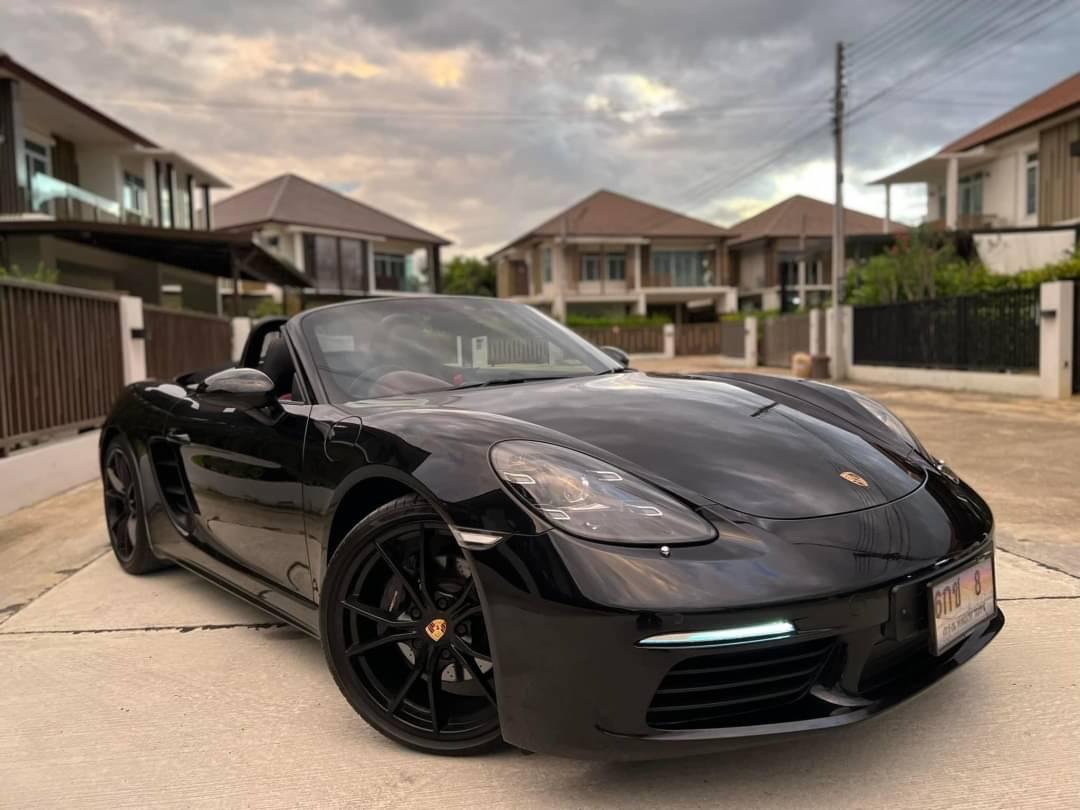license-plate: (910, 547, 1022, 670)
